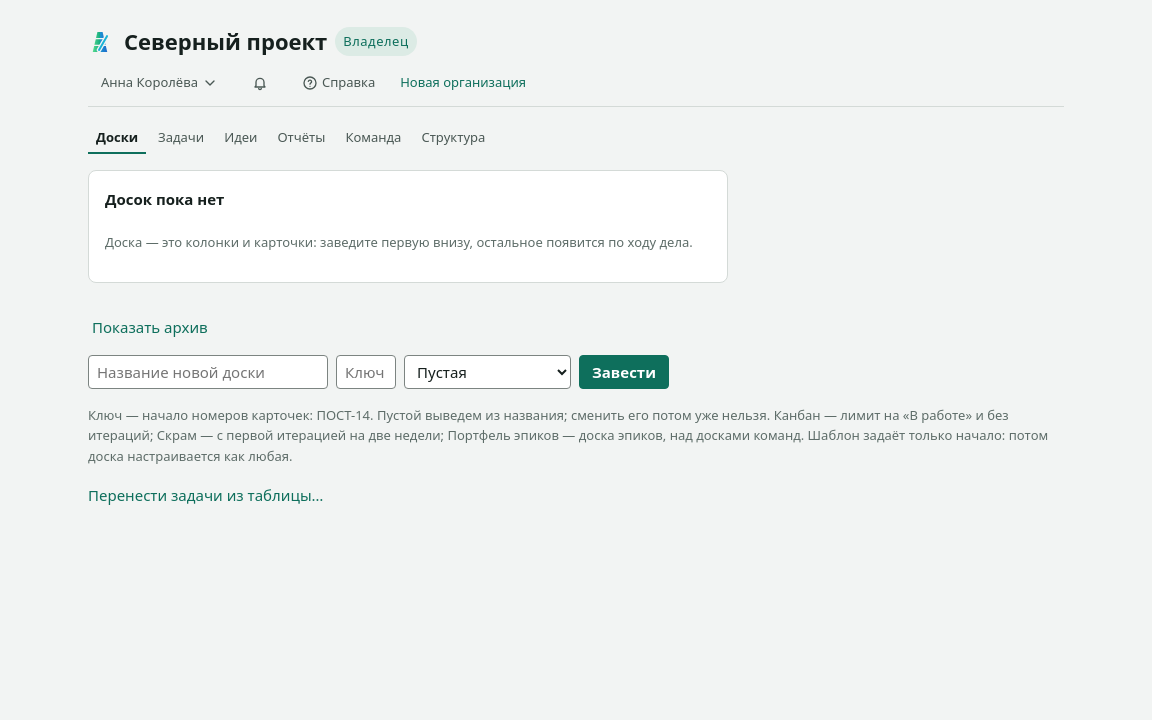
Test: смена почты кладёт отказ под своё поле и показывает новый адрес
The width and height of the screenshot is (1152, 720).
Expected: the heading "Северный проект" is shown, 124,24 -> 327,59
Step 1. Click the button "Анна Королёва" → (159, 83), box 88,67 -> 231,98
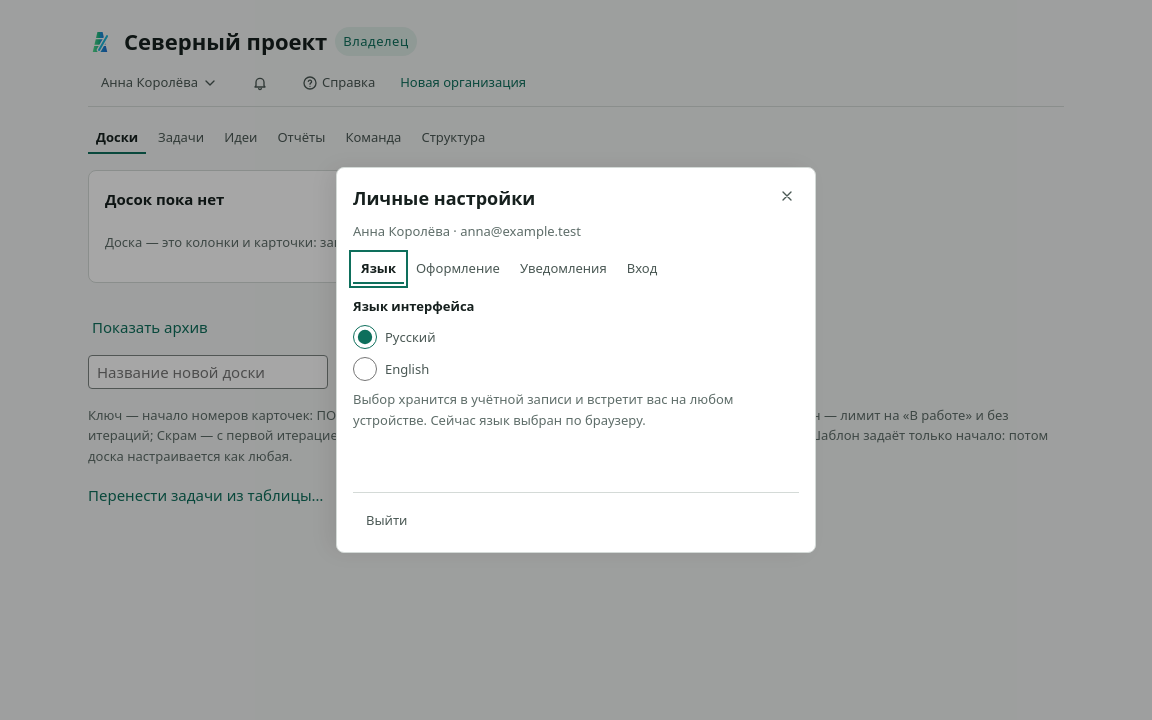
Step 2. Click the tab "Вход" → (642, 269), box 619,254 -> 665,284
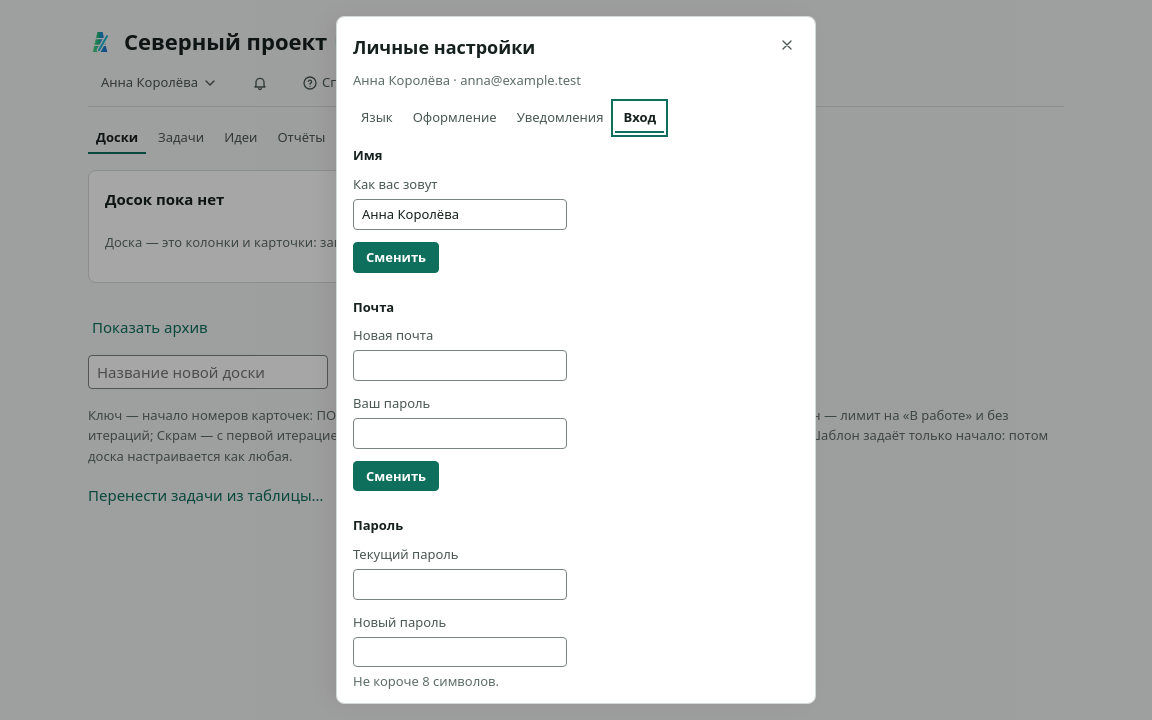
Step 3. Type "boris@example.test" into the field labelled "Новая почта" → (460, 366), box 353,350 -> 567,381
Step 4. Type "parol12345" into the password field labelled "Ваш пароль" → (460, 433), box 353,418 -> 567,449
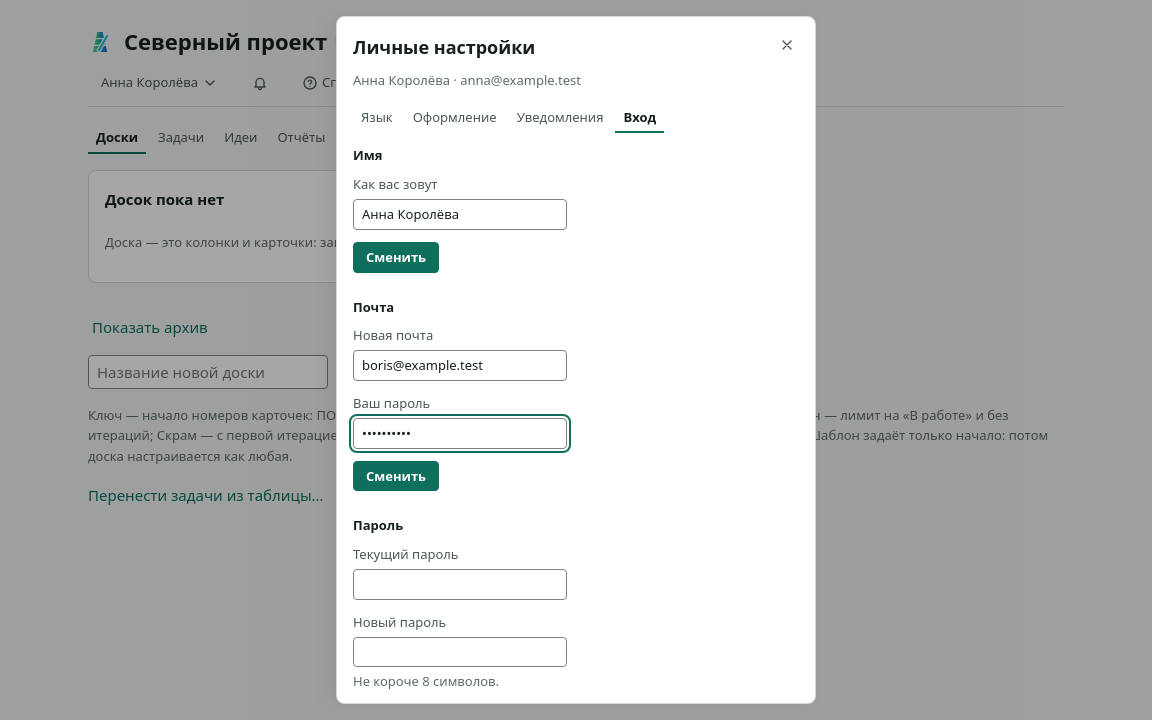
Step 5. Click the button with aria-label "Сменить почту" → (396, 476), box 353,461 -> 439,491
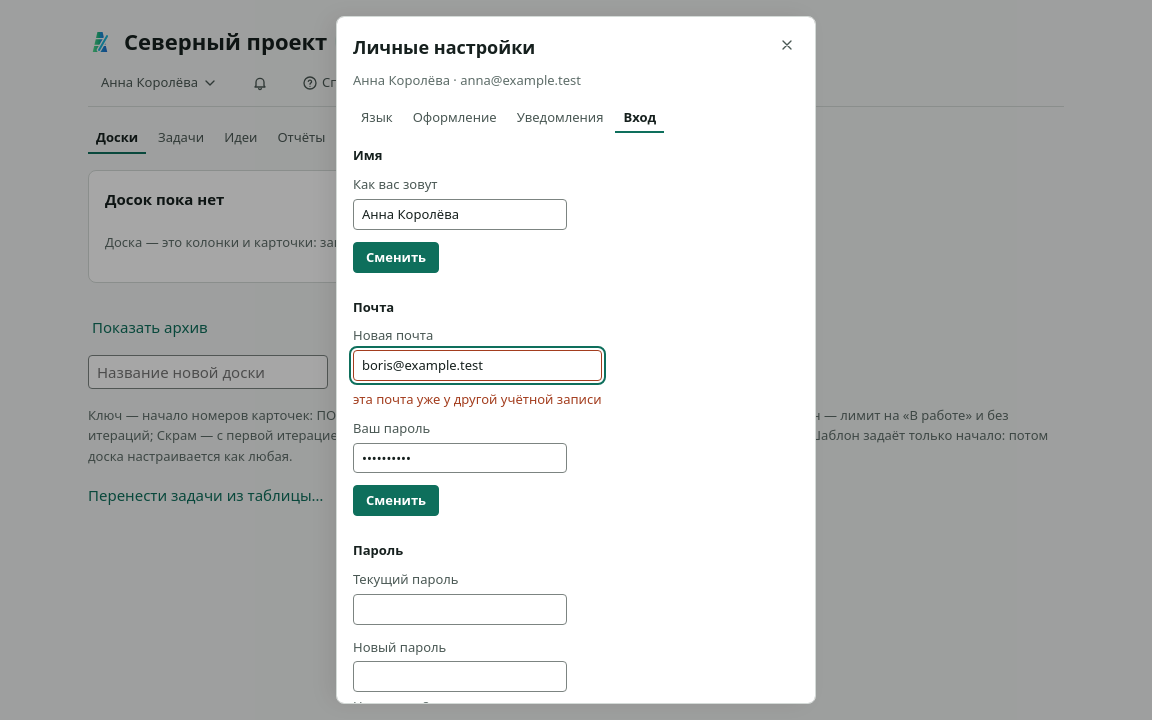
Step 6. Clear the field labelled "Новая почта" → (477, 366), box 353,350 -> 602,381
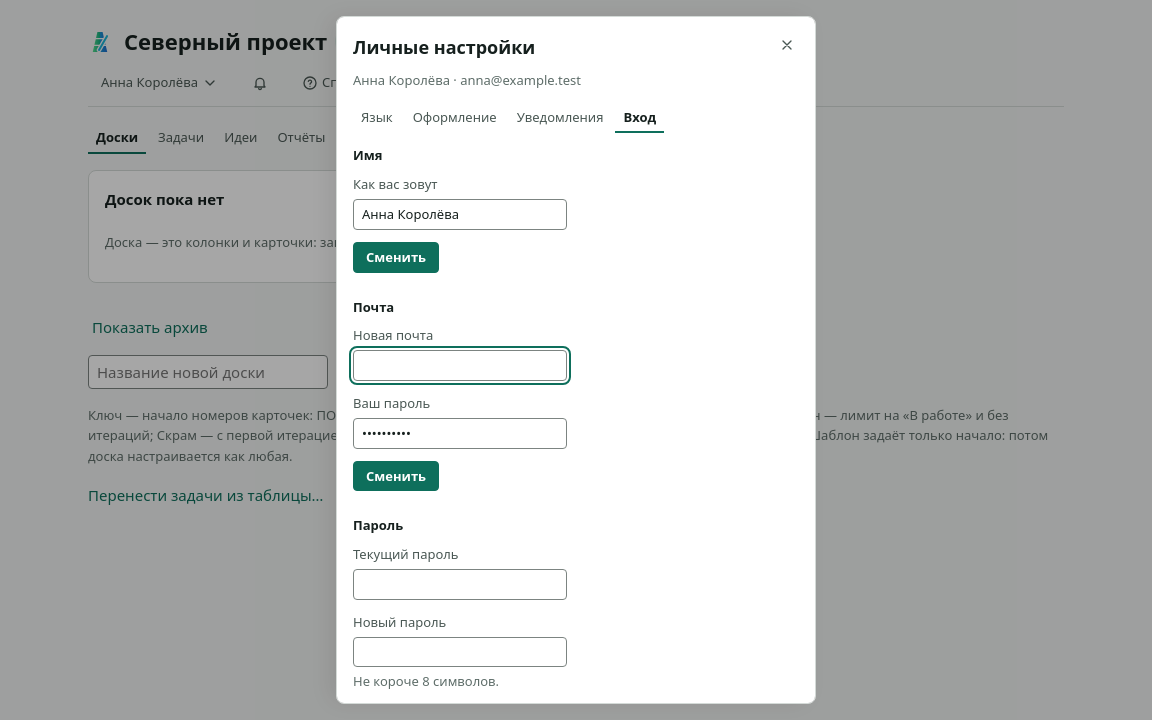
Step 7. Type "anna.new@example.test" into the field labelled "Новая почта" → (460, 366), box 353,350 -> 567,381
Step 8. Click the button with aria-label "Сменить почту" → (396, 476), box 353,461 -> 439,491
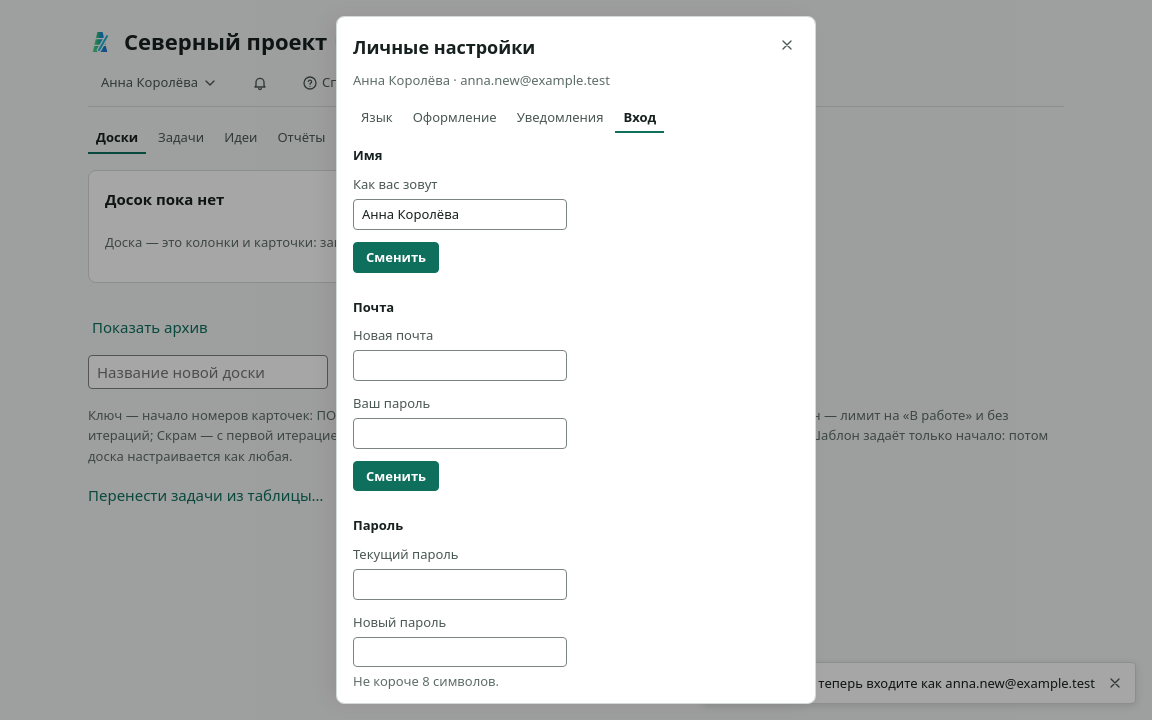
Expected: the dialog "Личные настройки" shows "anna.new@example.test", 353,71 -> 610,89
